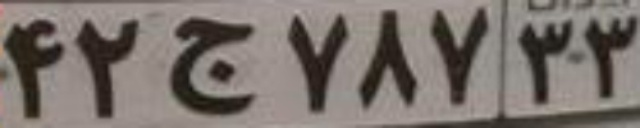2: (73, 17, 137, 119)
3: (513, 18, 573, 105), (579, 16, 636, 98)
4: (3, 18, 62, 116)
6: (427, 5, 496, 106), (284, 10, 346, 113)
7: (359, 8, 419, 107)
jim: (167, 16, 256, 113)
